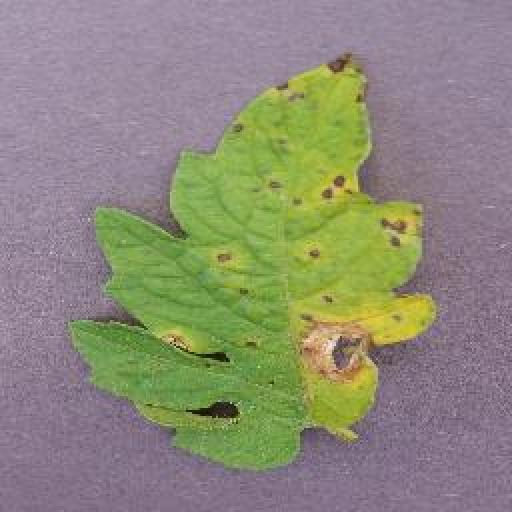Septoria: (68, 50, 438, 470)
